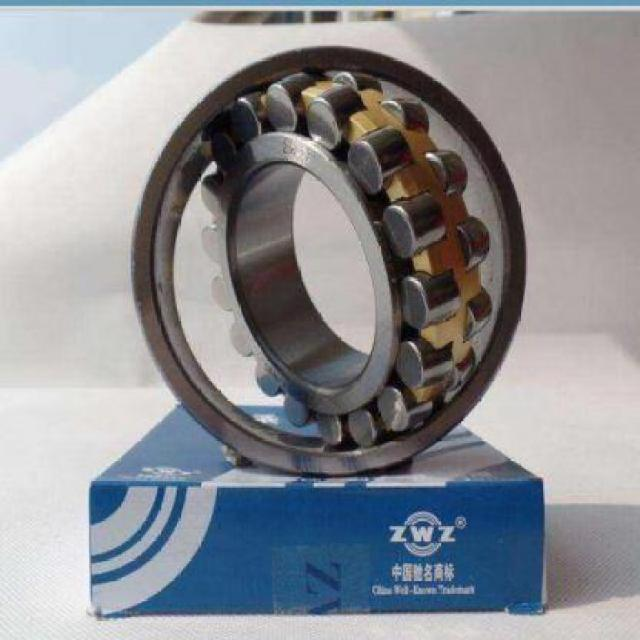Bearing: (132, 40, 532, 478)
